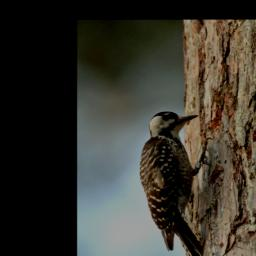Woodpecker: (138, 107, 214, 256)
